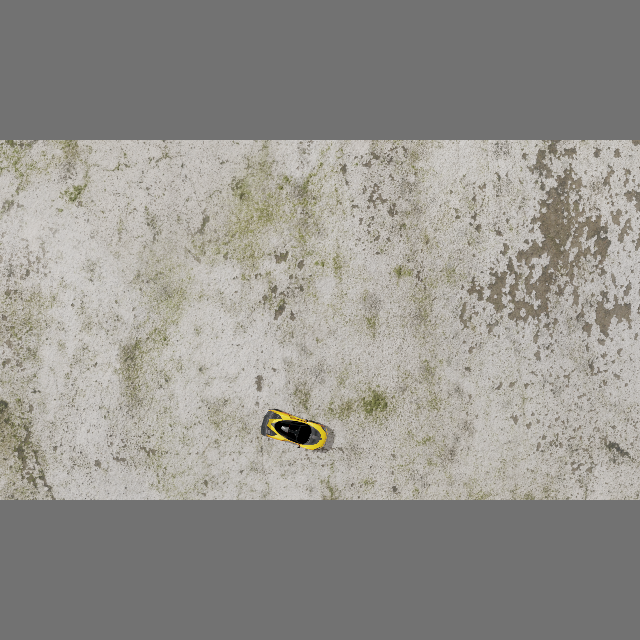car: (257, 405, 331, 457)
